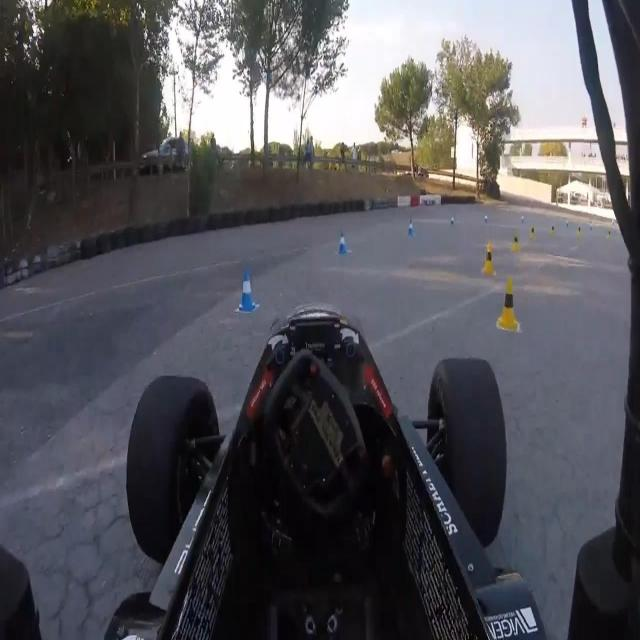blue_cone: (237, 268, 257, 312), (336, 230, 349, 256), (408, 217, 414, 234)
yellow_cone: (497, 274, 521, 332), (482, 242, 496, 278), (511, 233, 520, 252), (530, 220, 537, 242)
